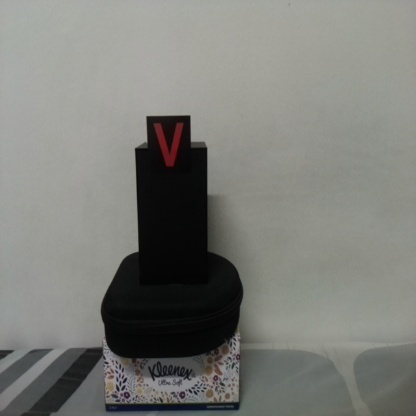id_11: (147, 118, 192, 174)
